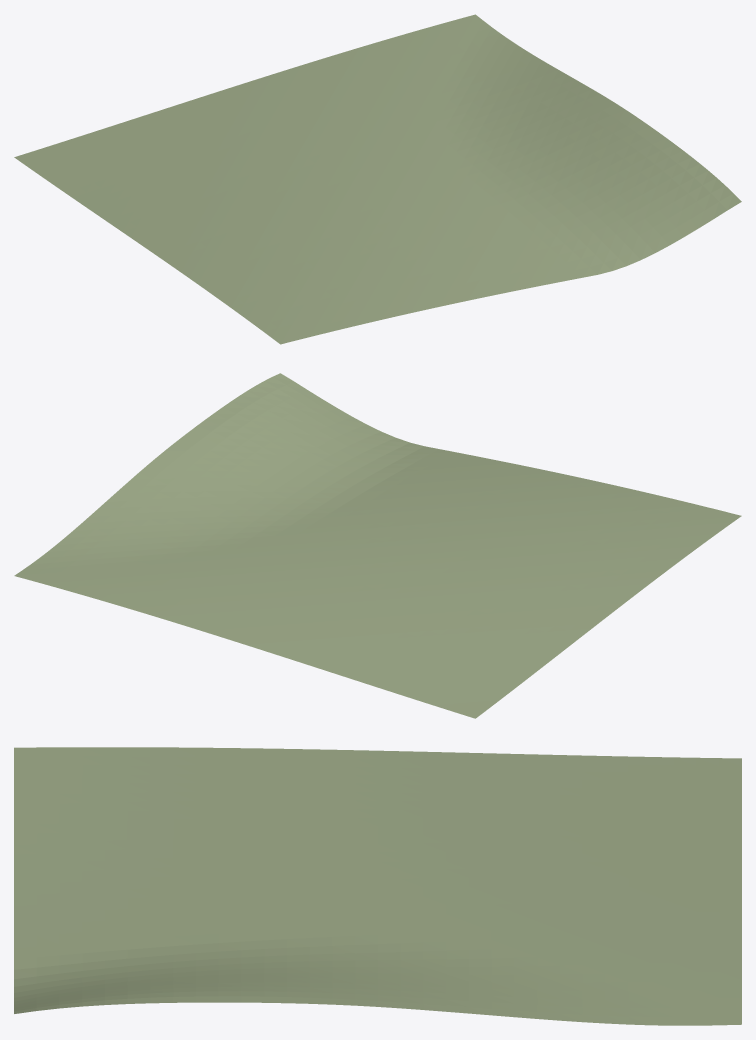
The model's file is alpine-1-2.glb.
3 renders of one model, top to bottom at view 1: azimuth 30°, elevation 25°; view 2: azimuth 150°, elevation 25°; view 3: azimuth 270°, elevation 25°, orthographic. The views are drawn at different scales.
Visible parts, largest first — view 1: alpine-1-2; view 2: alpine-1-2; view 3: alpine-1-2.
Boxes of the visible parts, x1,y1,x2,y2 form: alpine-1-2: (14, 14, 741, 344); alpine-1-2: (14, 373, 741, 718); alpine-1-2: (14, 747, 741, 1025).
Bounding box in the file's own units: 256 × 24.66 × 256.
